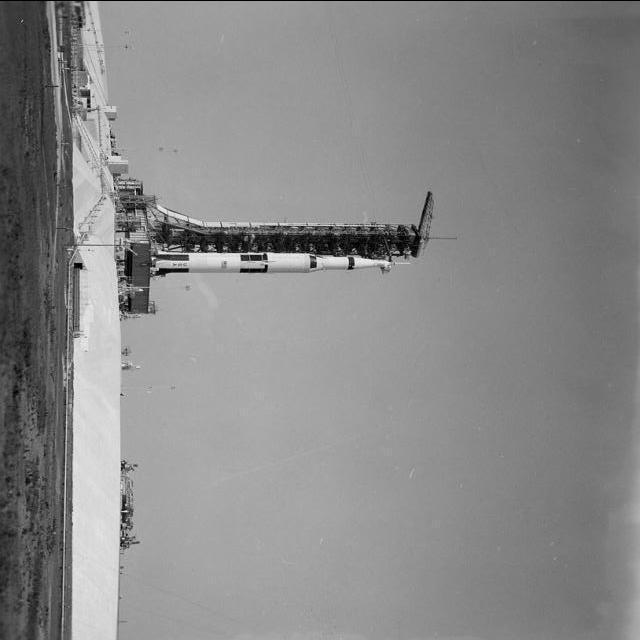missile: (141, 238, 405, 291)
